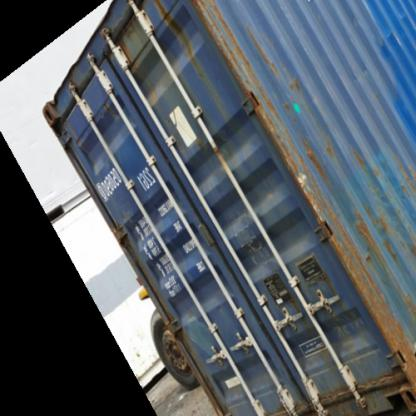Damage: (106, 21, 156, 101), (352, 211, 399, 277), (234, 218, 270, 270), (250, 32, 285, 79), (155, 1, 192, 45), (302, 136, 332, 188), (330, 307, 364, 340), (350, 56, 380, 88), (349, 140, 369, 173)
